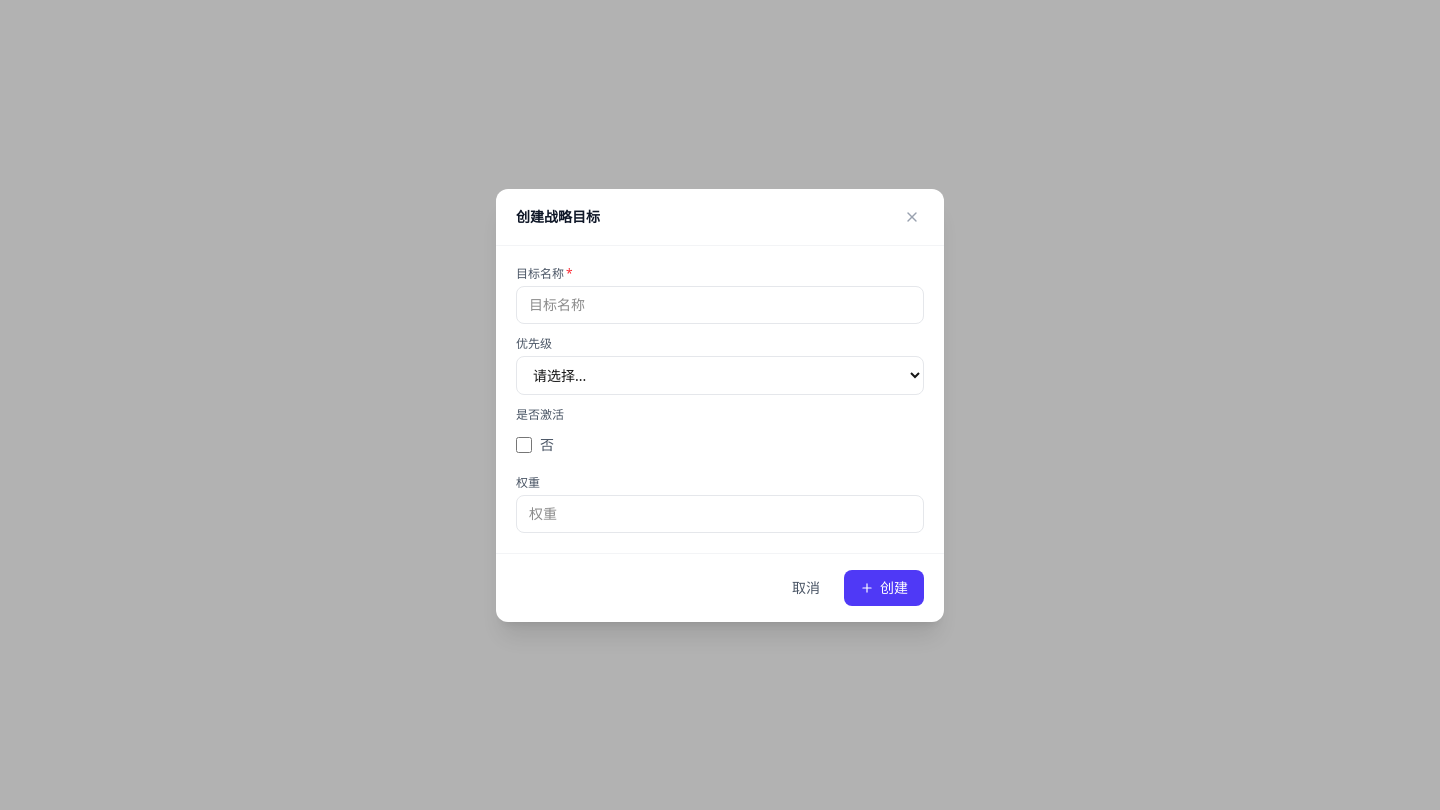
InlineCreateModal › validates required fields before submission
The width and height of the screenshot is (1440, 810).
Expected: the field with placeholder "目标名称" is shown, [516, 286, 924, 324]
Click the button "创建" at [884, 588], box [844, 570, 924, 606]
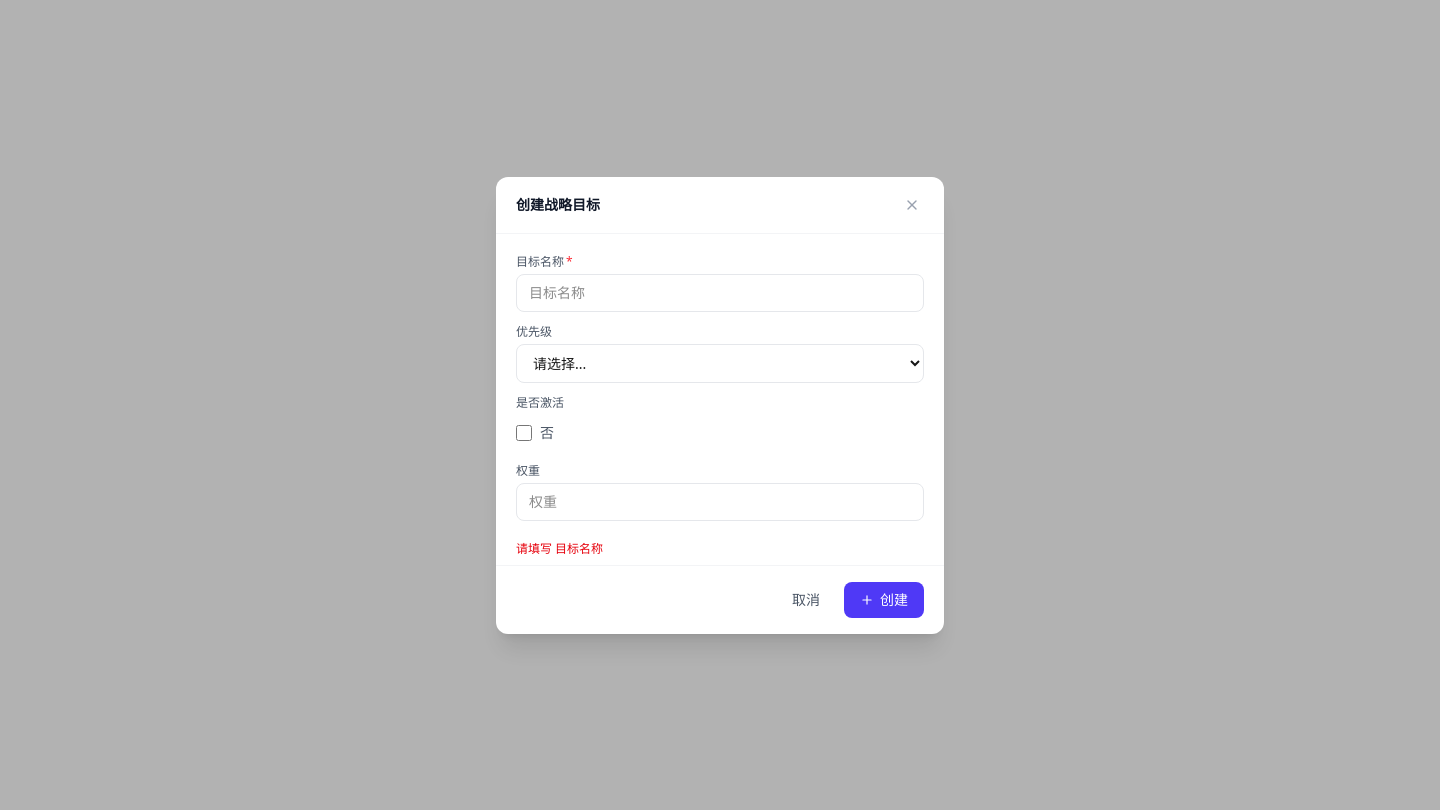
Expected: the text "请填写 目标名称" is shown, [516, 540, 603, 556]
